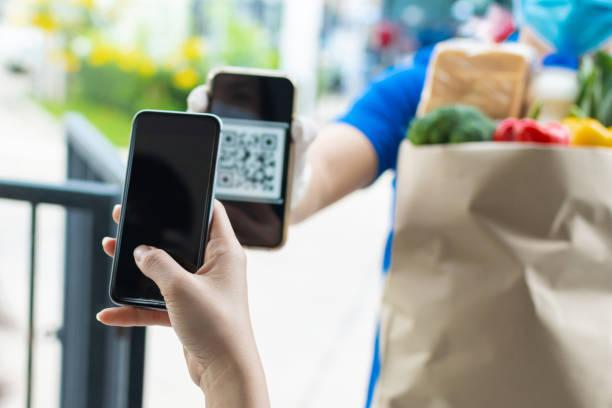Finder pattern: (259, 132, 281, 153), (215, 169, 237, 190), (219, 130, 238, 148)
